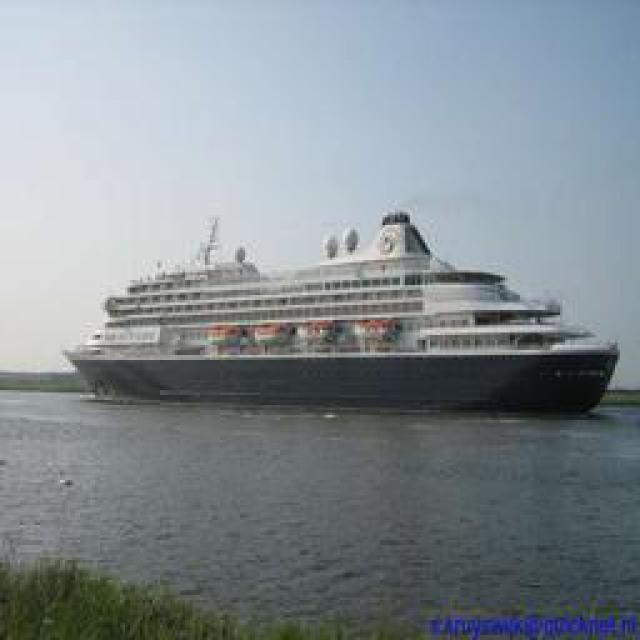Ship: (65, 204, 608, 414)
